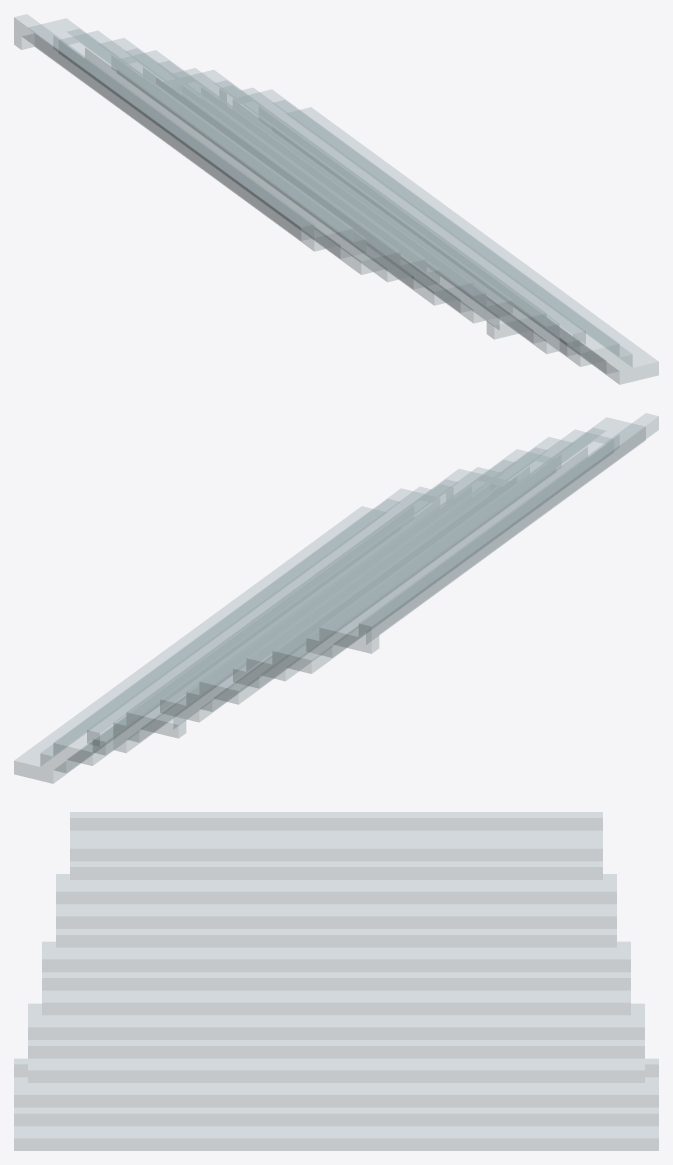
File: estate_windscreen.glb
3 renders of one model, top to bottom at view 1: azimuth 30°, elevation 25°; view 2: azimuth 150°, elevation 25°; view 3: azimuth 270°, elevation 25°, orthographic. The views are drawn at different scales.
Parts seen in each view (by area): view 1: body:compound; view 2: body:compound; view 3: body:compound.
Boxes of the visible parts, x1,y1,x2,y2 form: body:compound: (14,14,658,384); body:compound: (14,413,658,783); body:compound: (14,812,658,1150).
Bounding box in the file's own units: 0.7812 × 0.4688 × 1.44.
